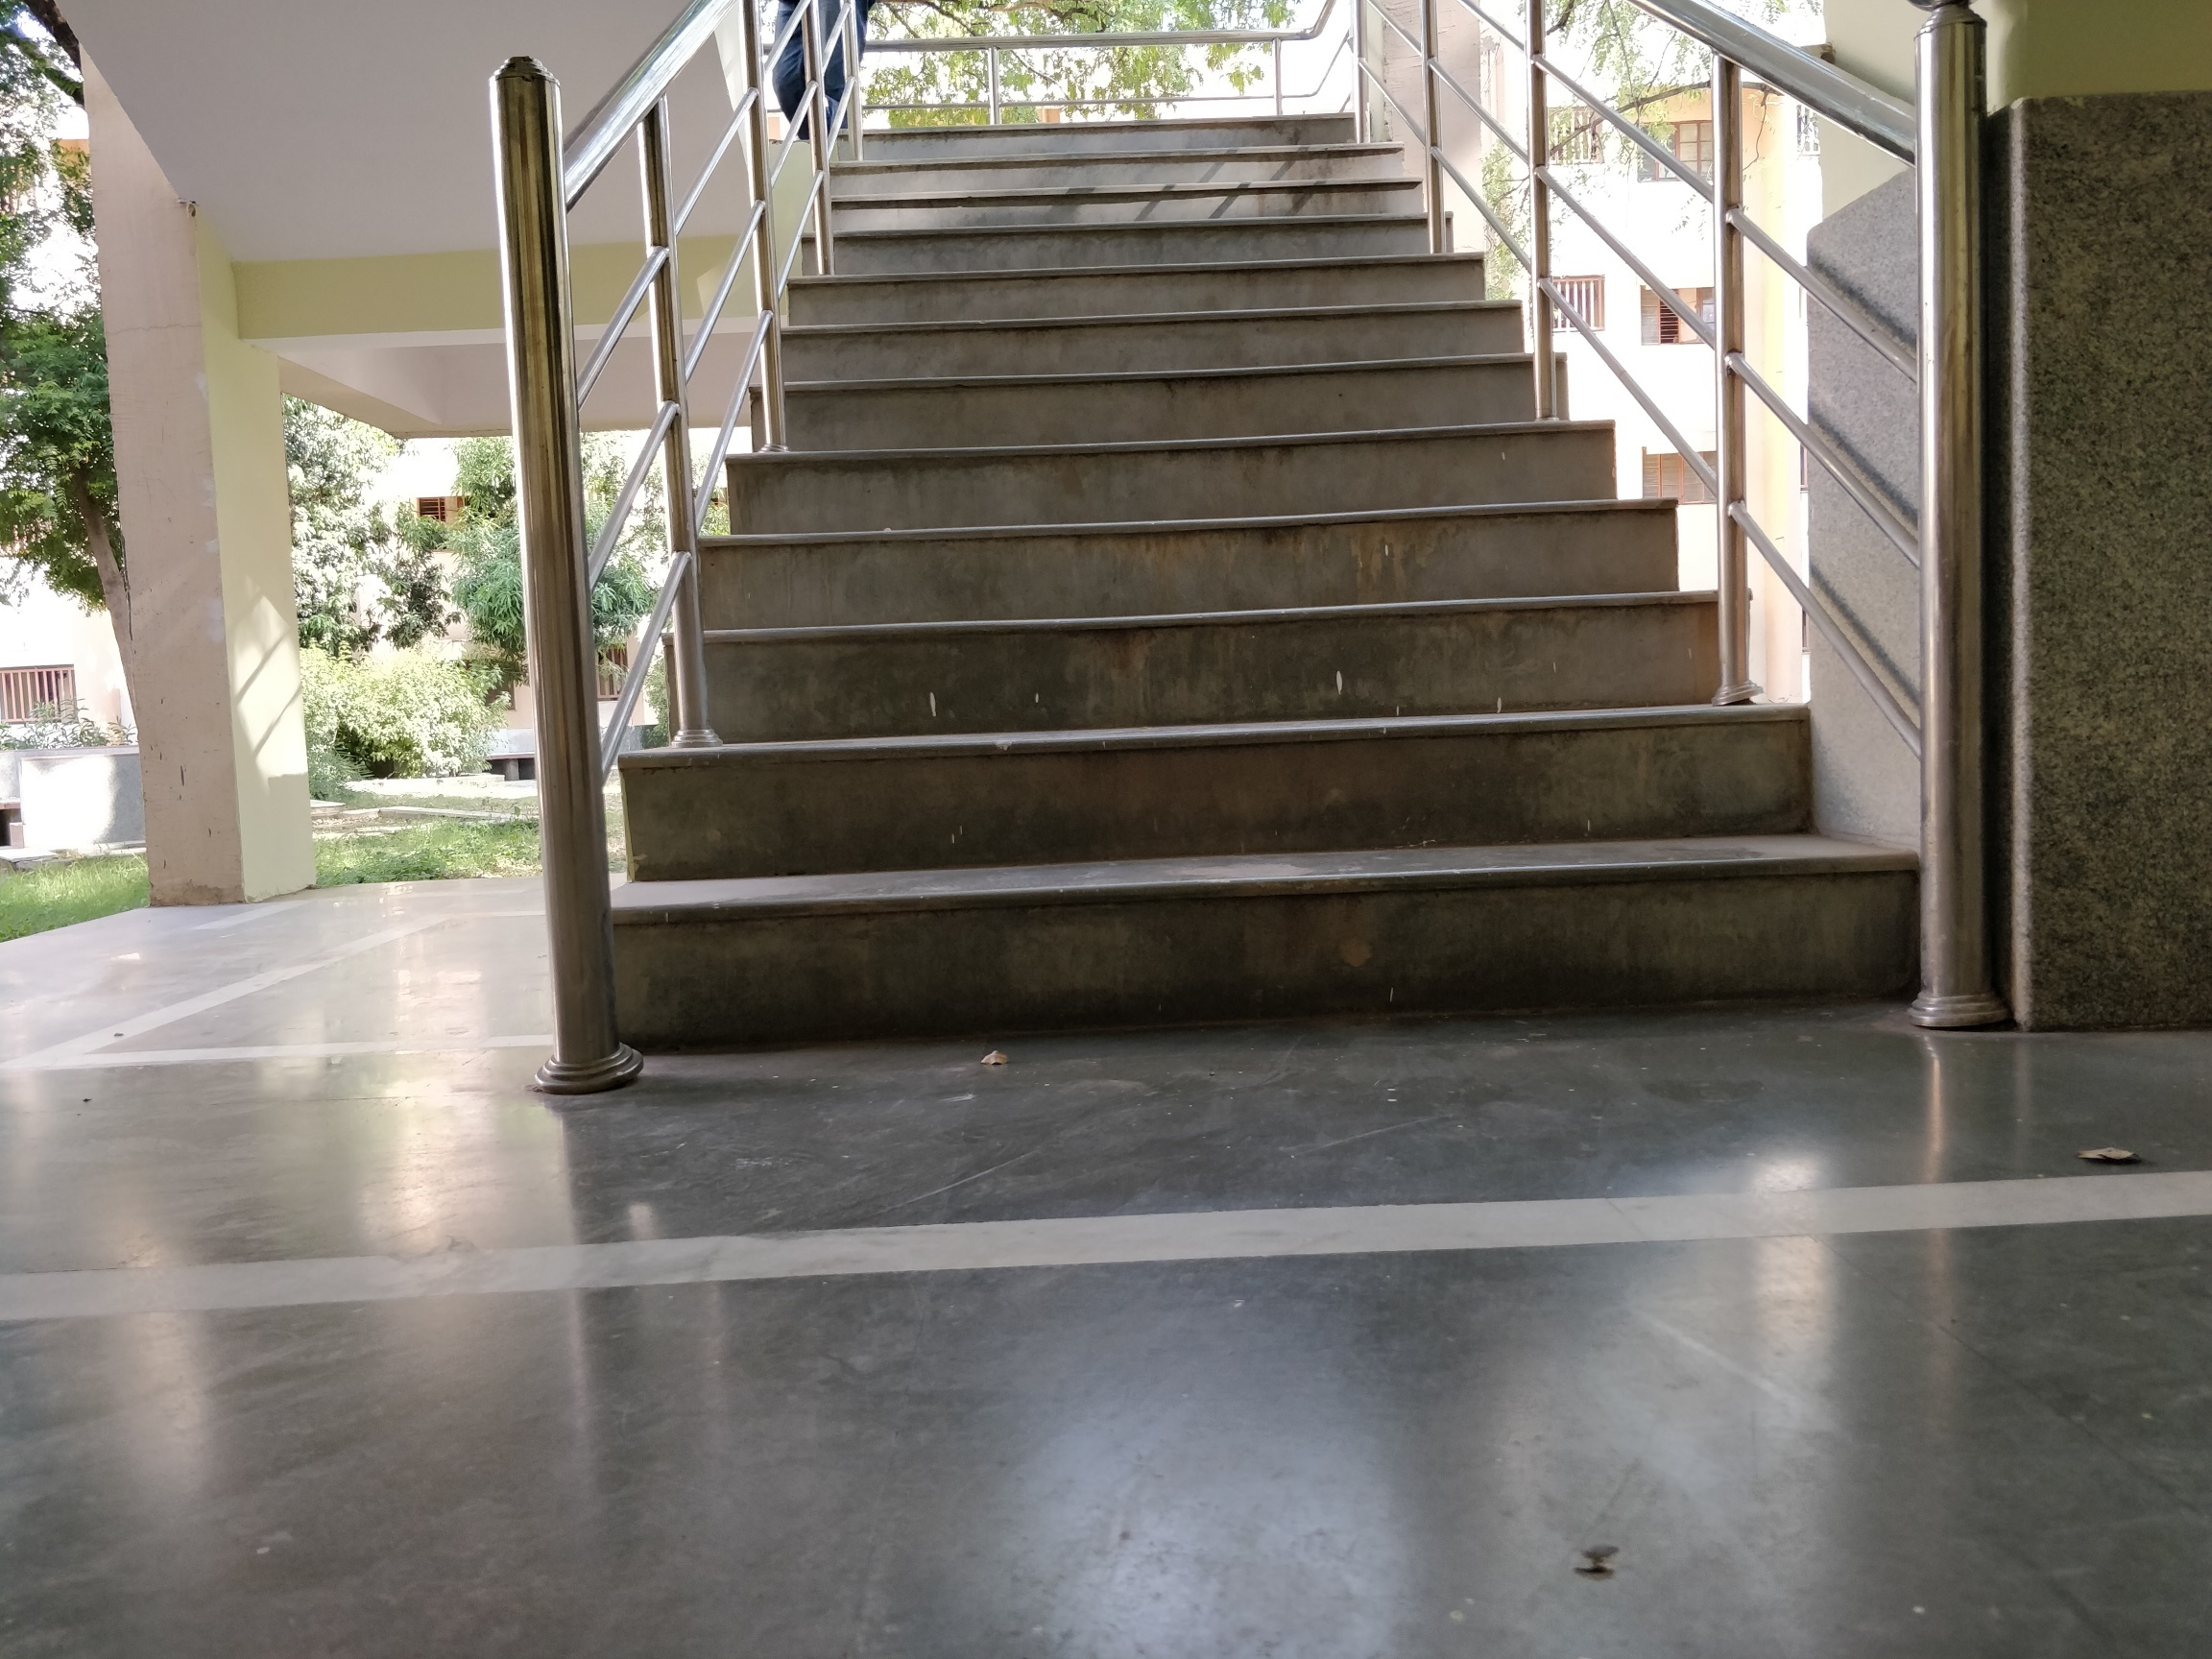stairs_up: (738, 160, 1824, 1094)
